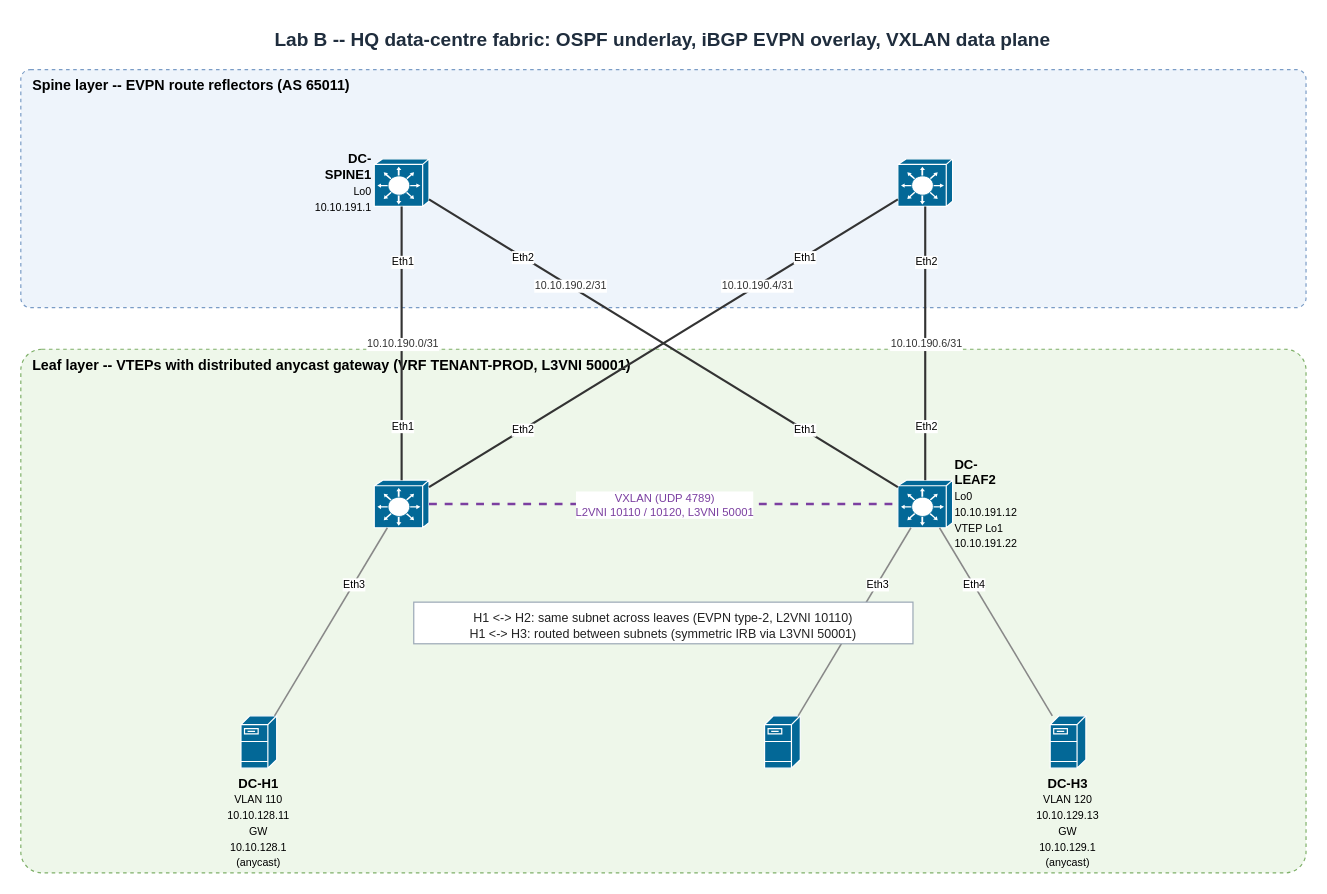
Some shapes in this 1327 by 894 pixel diagram are drawn without their labels. The shapes that lost their labels are listed below. From the top down, each one's centre as x and y in pixels, then its label:
(x=925, y=182): DC-SPINE2 (optional) Lo0 10.10.191.2
(x=401, y=503): DC-LEAF1 Lo0 10.10.191.11 VTEP Lo1 10.10.191.21
(x=781, y=741): DC-H2 VLAN 110 10.10.128.12 GW 10.10.128.1 (anycast)
